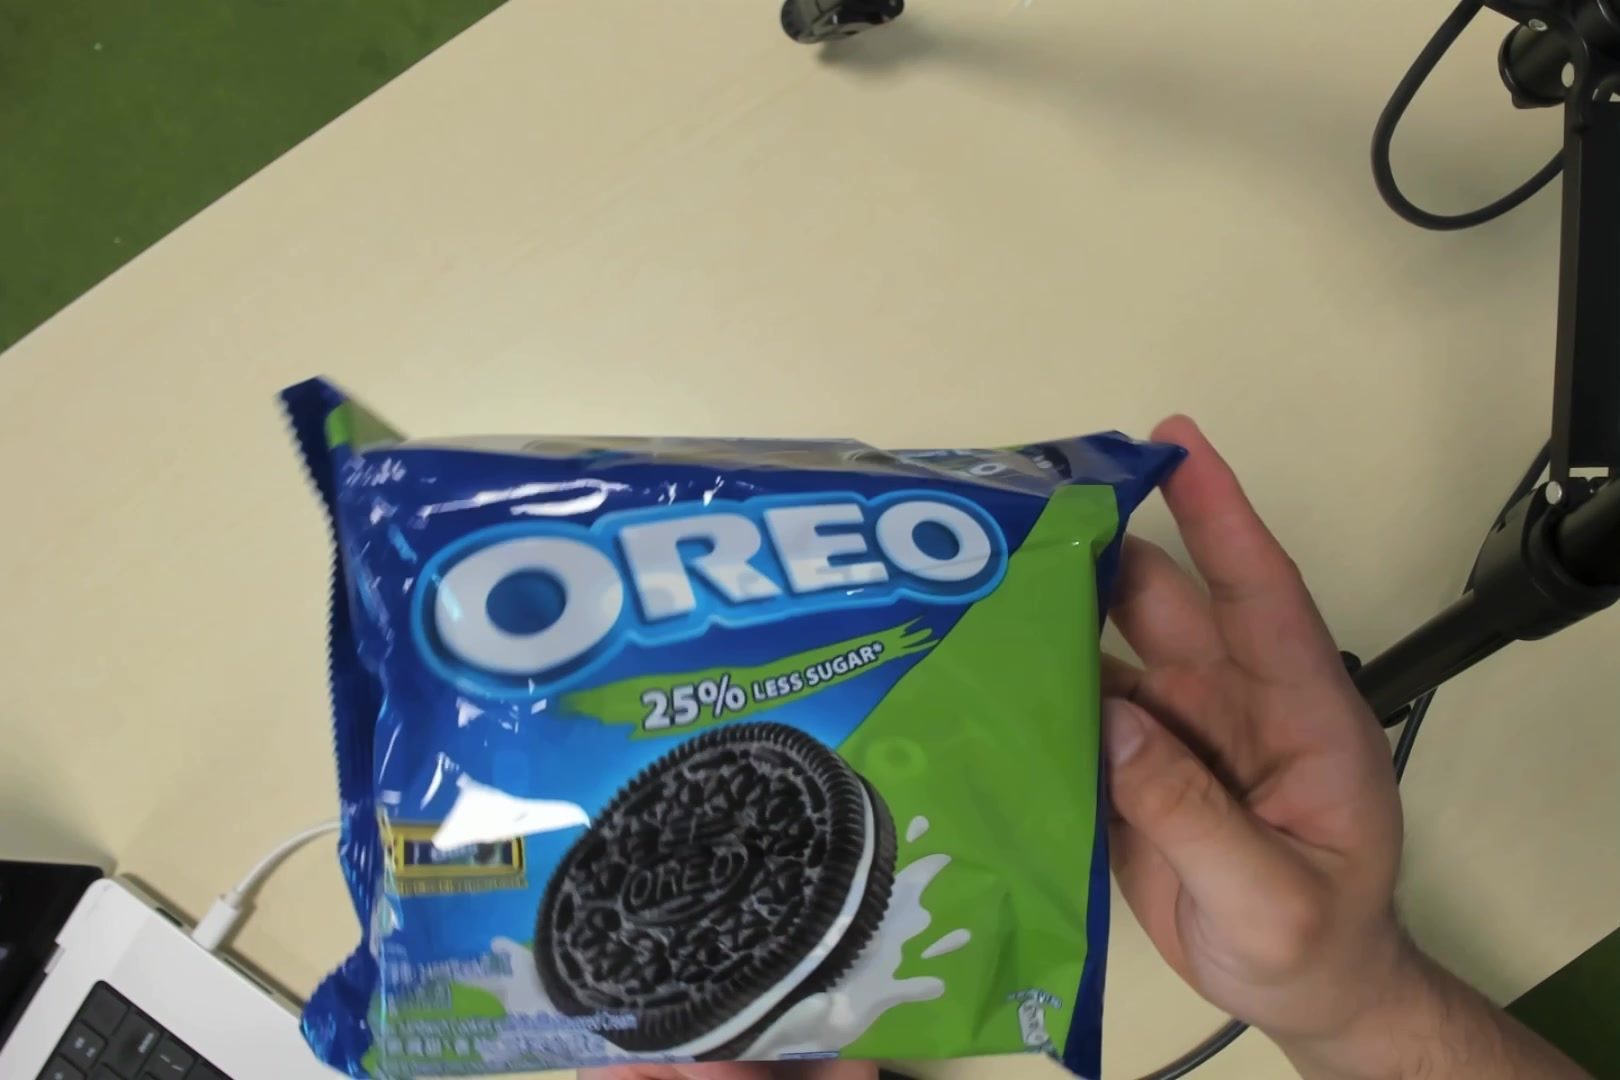SweetsChocolatesOthers_200-299g_Halal_NonHealthy: (344, 428, 1108, 1041)
